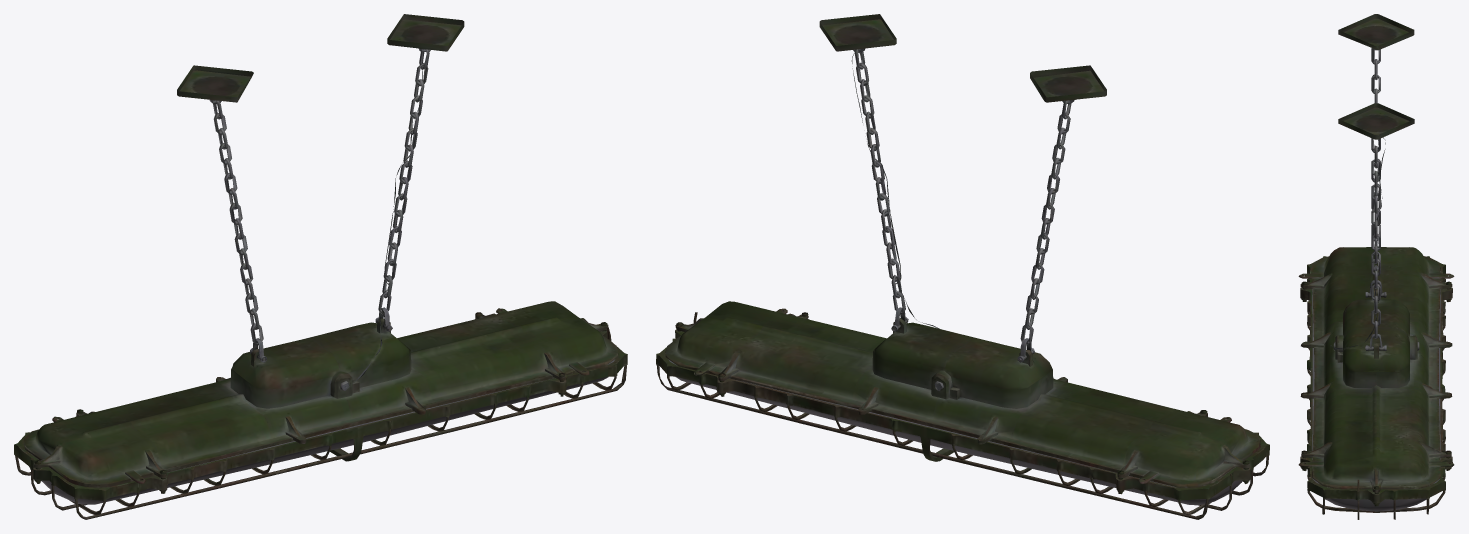
Rendered from caged_hanging_light_1k.low.glb.
The picture shows the model from 3 angles, left to right: view 1: azimuth 30°, elevation 25°; view 2: azimuth 150°, elevation 25°; view 3: azimuth 270°, elevation 25°; orthographic projection. The views are drawn at different scales.
Parts seen in each view (by area): view 1: caged_hanging_light; view 2: caged_hanging_light; view 3: caged_hanging_light.
Part boxes in pixels (x1,y1,x2,y2): caged_hanging_light: (14, 14, 627, 519); caged_hanging_light: (656, 14, 1269, 519); caged_hanging_light: (1298, 14, 1454, 519).
Size of the model in its own units: 1.16 by 0.7501 by 0.3149.
1 material, 1 textured.
